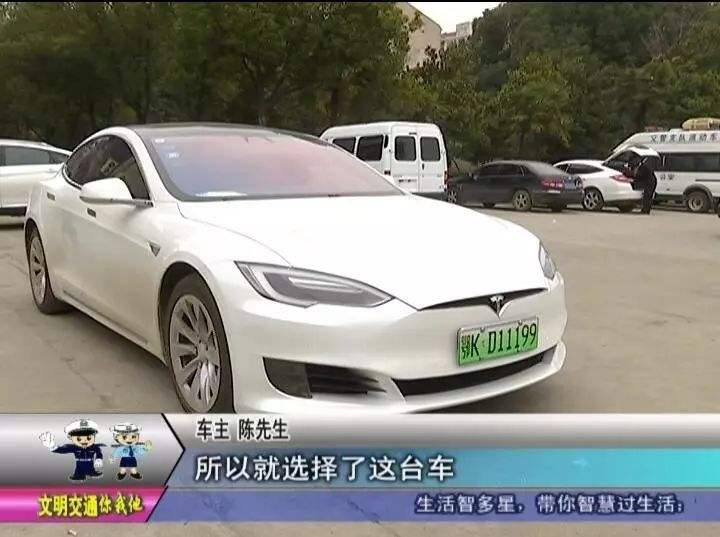plate: (446, 308, 554, 376)
